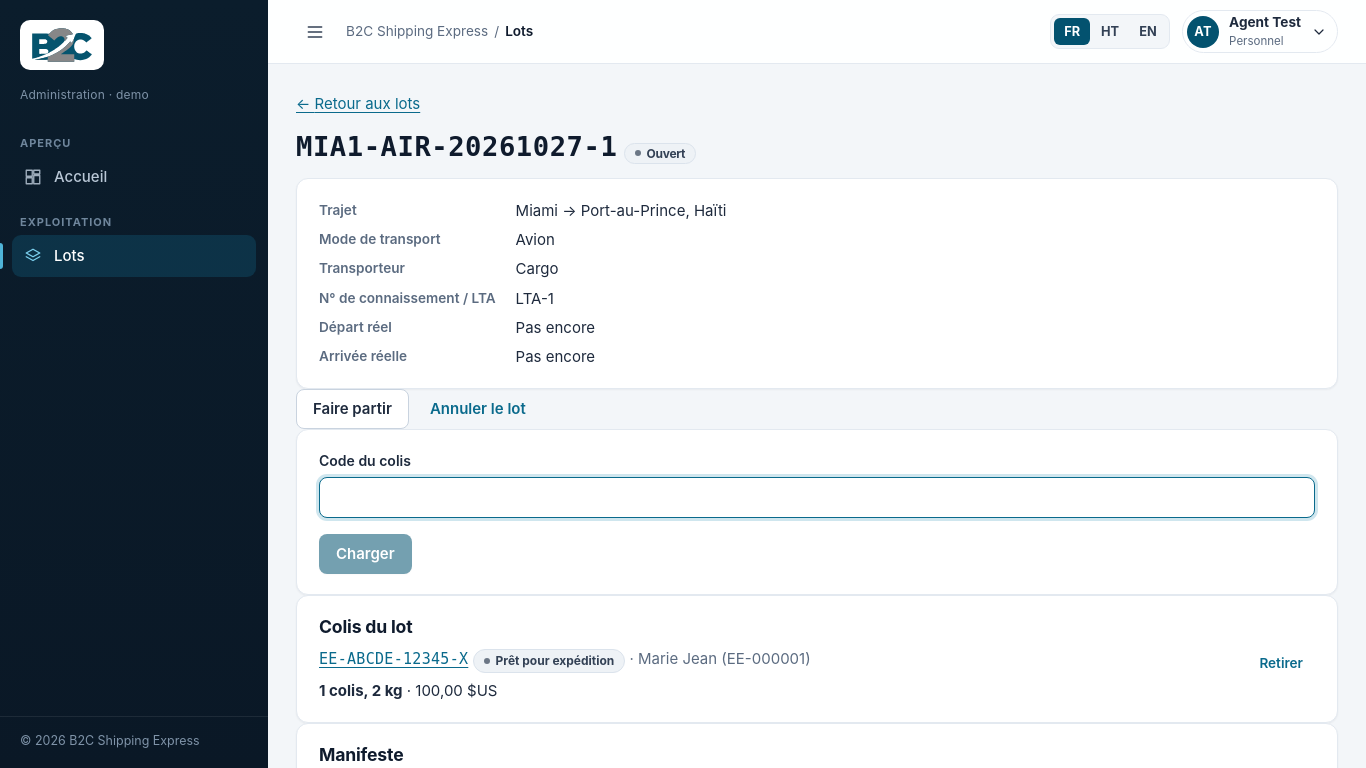
Test: lots de transport (personnel) › charge un colis par lecture, puis départ en deux temps ; les colis laissés de côté sont nommés
Expected: the text with test id "shipment-reference" reads "MIA1-AIR-20261027-1", left=296, top=131, right=617, bottom=162
Expected: the text with test id "shipment-status" reads "Ouvert", left=646, top=146, right=685, bottom=161
Type "EE-ABCDE-12345-X" into the field labelled "Code du colis".
click(817, 498); type("EE-ABCDE-12345-X")  # box left=319, top=477, right=1315, bottom=518
Then press Enter
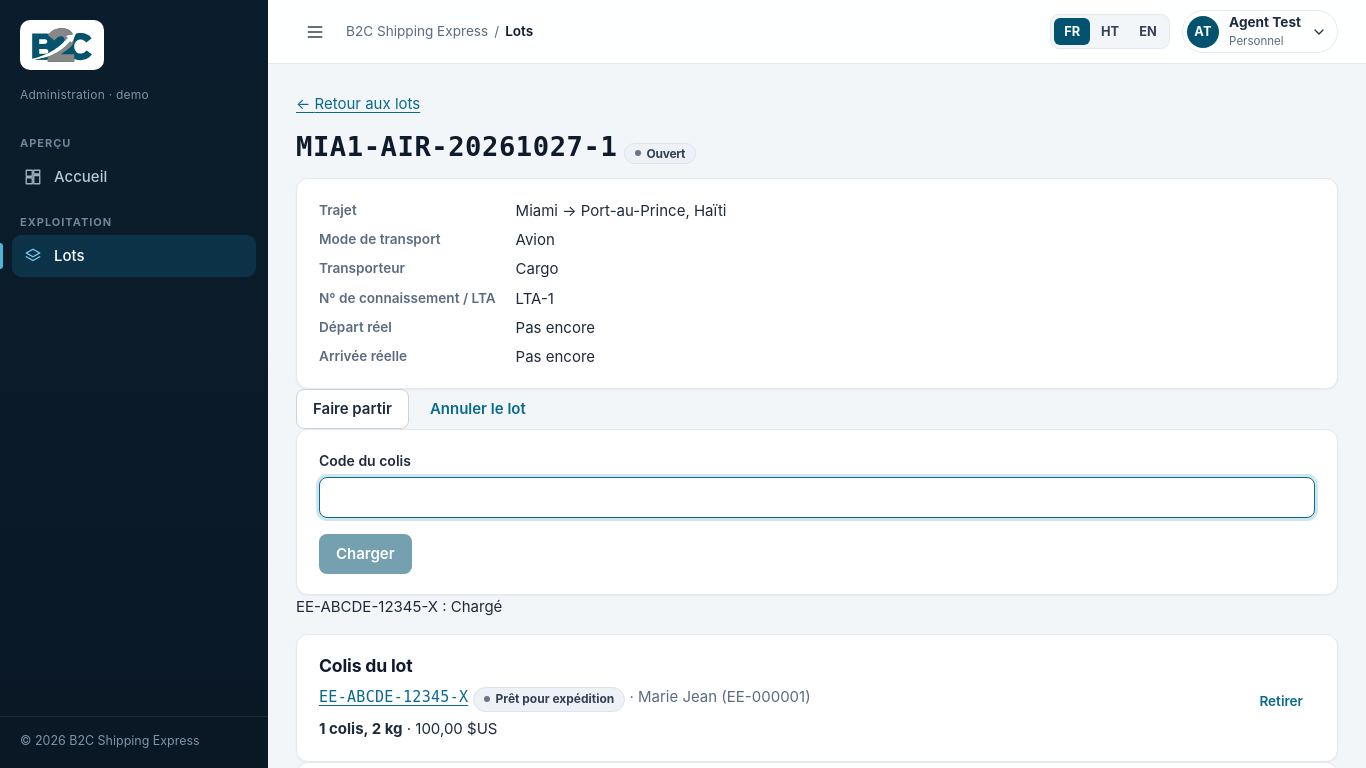
Click the button "Faire partir".
click(352, 409)  # box left=296, top=389, right=409, bottom=429
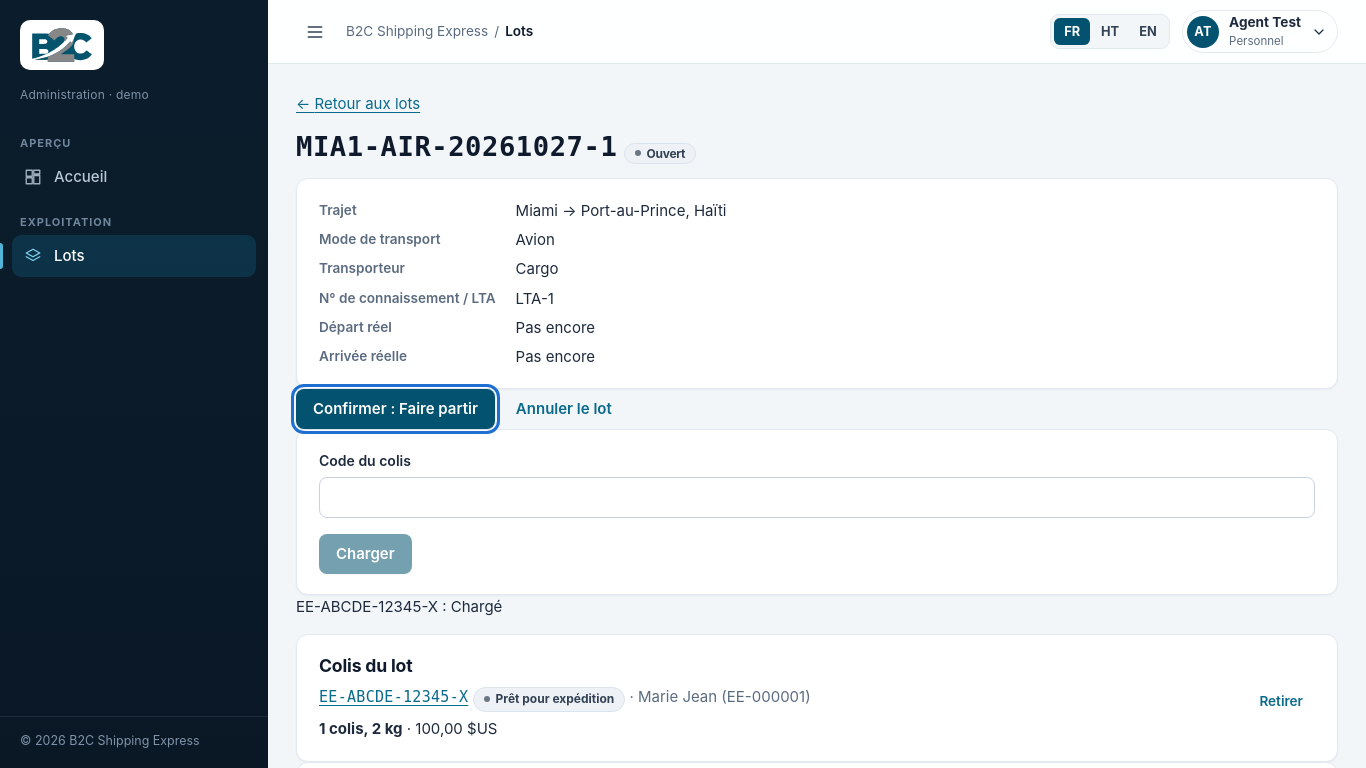
Click the button "Confirmer : Faire partir".
click(395, 409)  # box left=296, top=389, right=495, bottom=429
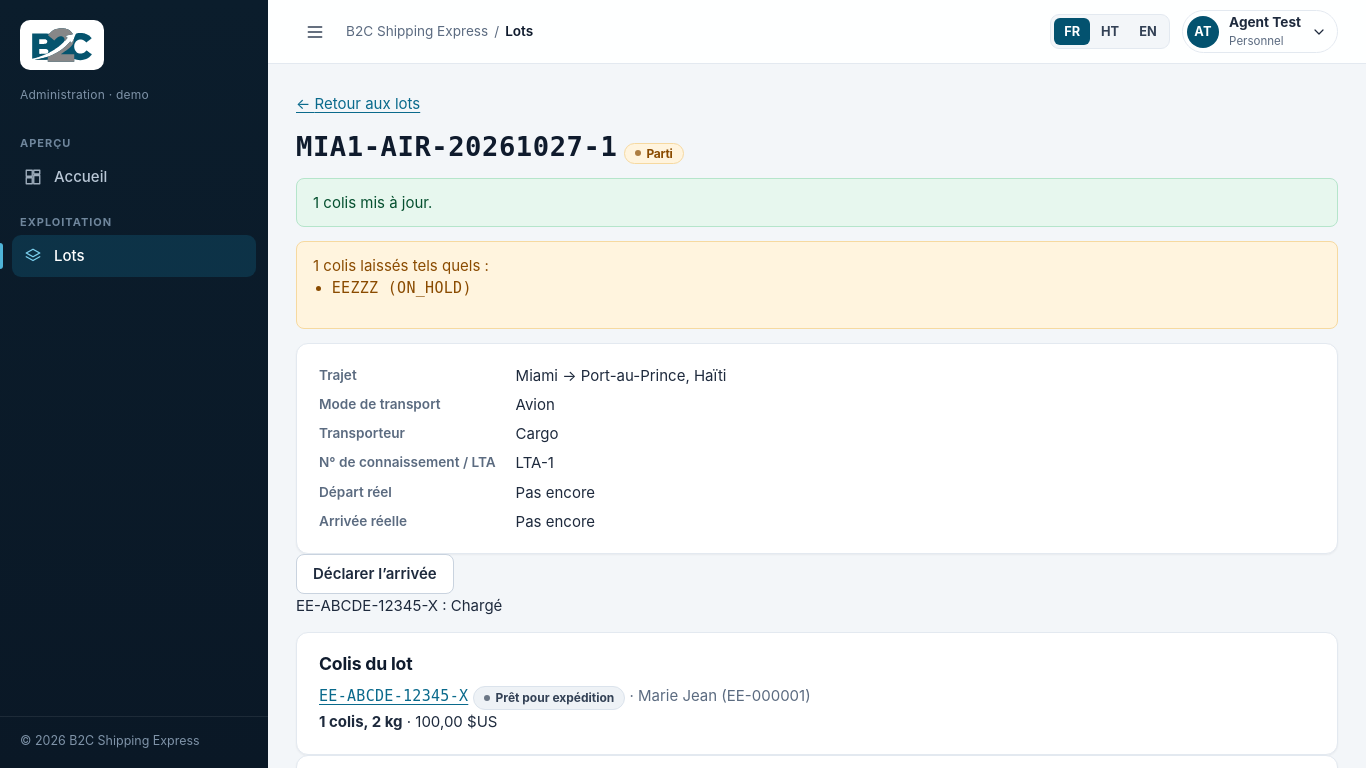
Expected: the text "1 colis mis à jour." is shown, left=313, top=191, right=432, bottom=214
Expected: the text "1 colis laissés tels quels :" is shown, left=313, top=256, right=489, bottom=275
Expected: the list item "EEZZZ (ON_HOLD)" is shown, left=332, top=277, right=489, bottom=301
